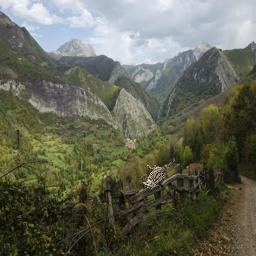Sparrow: (141, 159, 175, 190)
